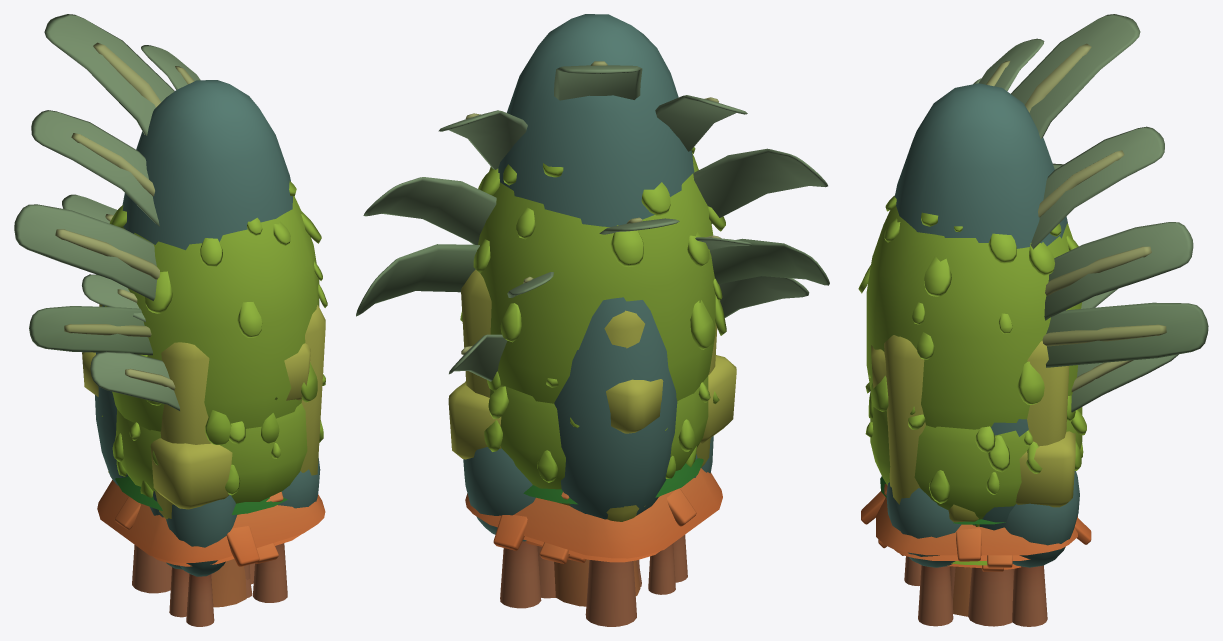
The model's file is SM_trees_PC.fbx.
3 renders of one model, left to right at view 1: azimuth 30°, elevation 25°; view 2: azimuth 150°, elevation 25°; view 3: azimuth 270°, elevation 25°, orthographic. The views are drawn at different scales.
Parts seen in each view (by area): view 1: SM_tree14_mid, SM_tree20_mid, SM_tree12_mid, SM_tree4_mid, SM_tree10_mid, SM_tree13_mid, SM_tree8_mid, SM_tree19_mid, SM_tree11_mid, SM_tree18_mid, SM_tree9_mid; view 2: SM_tree14_mid, SM_tree20_mid, SM_tree10_mid, SM_tree12_mid, SM_tree4_mid, SM_tree8_mid, SM_tree13_mid, SM_tree19_mid, SM_tree11_mid, SM_tree18_mid, SM_tree9_mid; view 3: SM_tree14_mid, SM_tree20_mid, SM_tree12_mid, SM_tree4_mid, SM_tree13_mid, SM_tree10_mid, SM_tree8_mid, SM_tree11_mid, SM_tree19_mid, SM_tree9_mid.
Boxes of the visible parts, x1,y1,x2,y2 form: SM_tree14_mid: (104,181,327,444); SM_tree20_mid: (14,14,246,607); SM_tree12_mid: (122,80,292,250); SM_tree4_mid: (82,304,325,579); SM_tree10_mid: (95,305,320,626); SM_tree13_mid: (102,374,325,503); SM_tree8_mid: (97,480,325,566); SM_tree19_mid: (62,194,179,410); SM_tree11_mid: (150,491,254,617); SM_tree18_mid: (115,476,287,514); SM_tree9_mid: (153,534,301,566); SM_tree14_mid: (460,147,726,403); SM_tree20_mid: (356,61,829,606); SM_tree10_mid: (463,297,713,626); SM_tree12_mid: (498,14,694,226); SM_tree4_mid: (448,269,736,573); SM_tree8_mid: (465,468,722,558); SM_tree13_mid: (465,376,719,489); SM_tree19_mid: (449,217,809,381); SM_tree11_mid: (537,454,697,598); SM_tree18_mid: (523,458,703,504); SM_tree9_mid: (523,536,659,563); SM_tree14_mid: (858,195,1081,429); SM_tree20_mid: (953,14,1208,616); SM_tree12_mid: (894,83,1068,248); SM_tree4_mid: (871,335,1075,600); SM_tree13_mid: (865,374,1086,526); SM_tree10_mid: (886,471,1079,626); SM_tree8_mid: (861,484,1091,561); SM_tree11_mid: (968,419,1028,626); SM_tree19_mid: (1053,163,1178,412); SM_tree9_mid: (878,539,1030,567).
Size of the model in its own units: 677 by 1125 by 661.
1 material, 1 textured.
